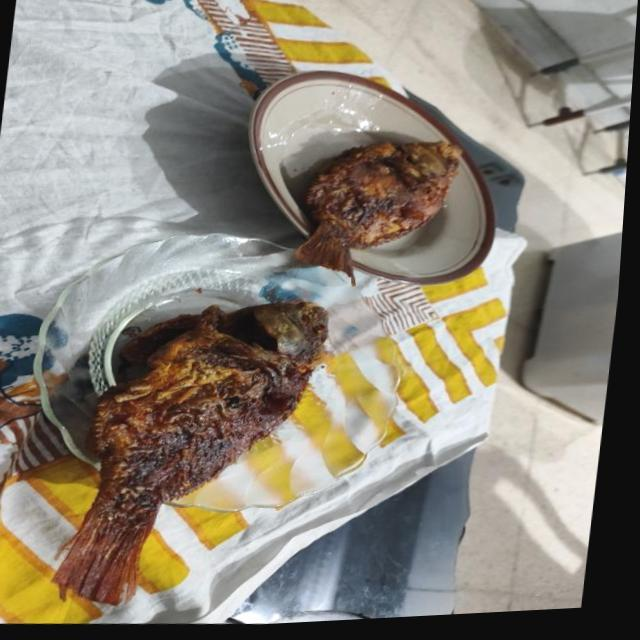ikan_mujair: (53, 302, 328, 605), (296, 142, 462, 276)
